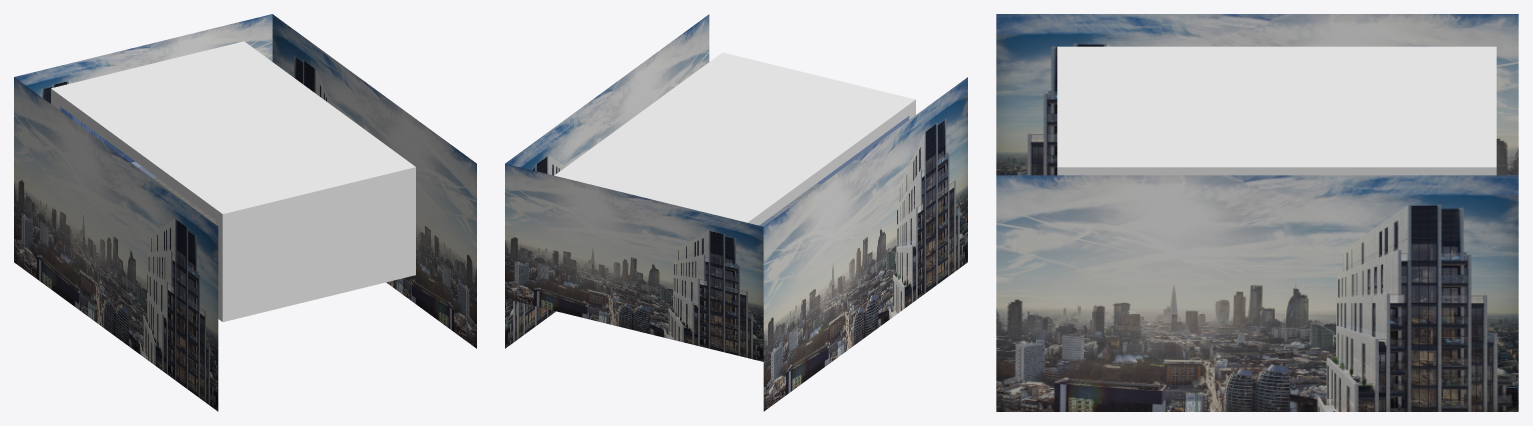
Rendered from roomV2.obj.
3 views of the same model, side by side, from view 1: azimuth 30°, elevation 25°; view 2: azimuth 150°, elevation 25°; view 3: azimuth 270°, elevation 25° (orthographic). The views are drawn at different scales.
Parts seen in each view (by area): view 1: Mesh631 Model, Mesh635 Model, Mesh634 Model, Mesh633 Model; view 2: Mesh635 Model, Mesh633 Model, Mesh631 Model, Mesh634 Model; view 3: Mesh634 Model, Mesh631 Model, Mesh635 Model.
Boxes of the visible parts, box(x1,y1,x2,y2) form: Mesh631 Model: box(51, 41, 415, 321); Mesh635 Model: box(14, 77, 218, 411); Mesh634 Model: box(272, 14, 476, 348); Mesh633 Model: box(14, 14, 272, 161); Mesh635 Model: box(763, 77, 967, 411); Mesh633 Model: box(505, 163, 763, 361); Mesh631 Model: box(554, 52, 915, 226); Mesh634 Model: box(505, 14, 709, 348); Mesh634 Model: box(996, 175, 1518, 411); Mesh631 Model: box(1057, 46, 1496, 175); Mesh635 Model: box(996, 14, 1518, 175).
Size of the model in its own units: 15.02 by 10.29 by 20.58.
